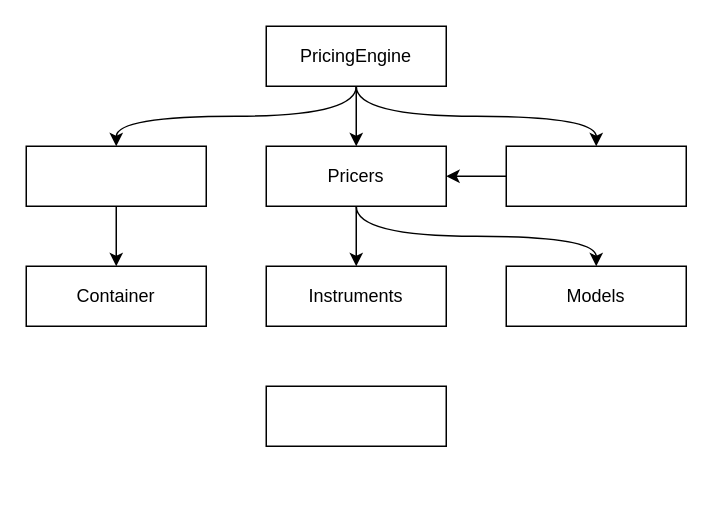
Some shapes in this 713 by 530 pixel diagram are drawn without their labels. The box of each missing label's shape, as (x1, y1, x2, y2) in pixels:
Core: (265, 385, 446, 446)
Elaboration: (25, 145, 206, 206)
Metrics: (505, 145, 686, 206)
